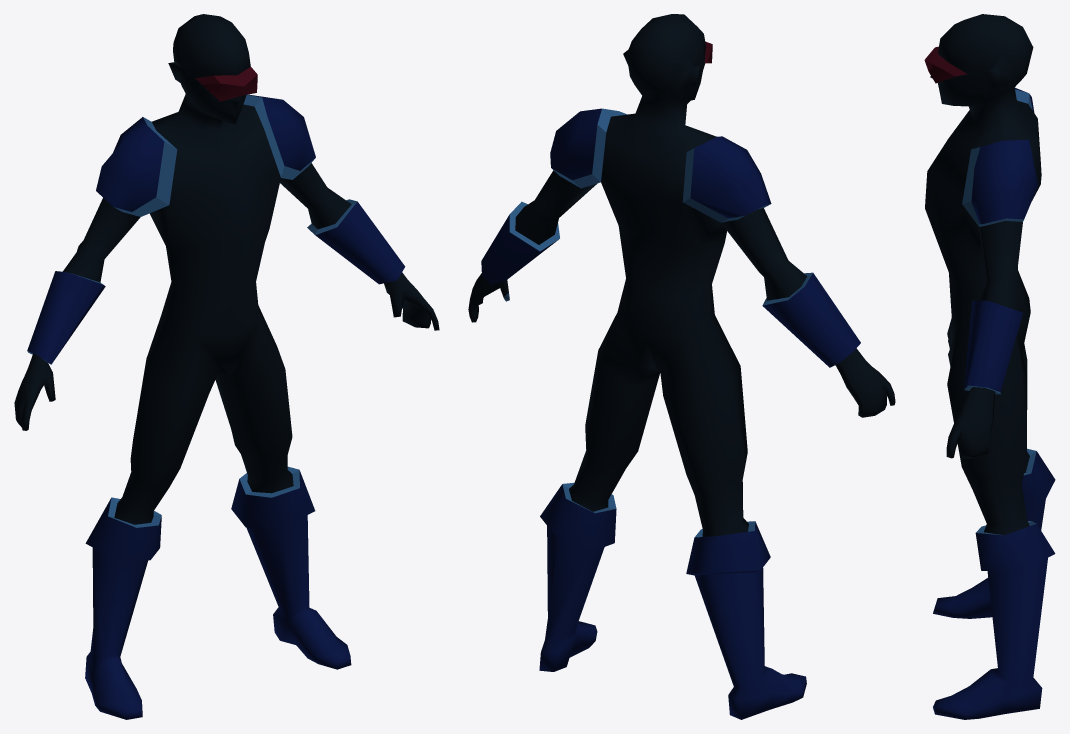
File: Player_Tpose.FBX
The picture shows the model from 3 angles, left to right: view 1: azimuth 30°, elevation 25°; view 2: azimuth 150°, elevation 25°; view 3: azimuth 270°, elevation 25°; orthographic projection. The views are drawn at different scales.
Parts seen in each view (by area): view 1: Player; view 2: Player; view 3: Player.
Part boxes in pixels (x1,y1,x2,y2): Player: (14, 14, 439, 719); Player: (468, 14, 895, 719); Player: (924, 14, 1055, 719).
Bounding box in the file's own units: 110 × 166 × 30.59.
